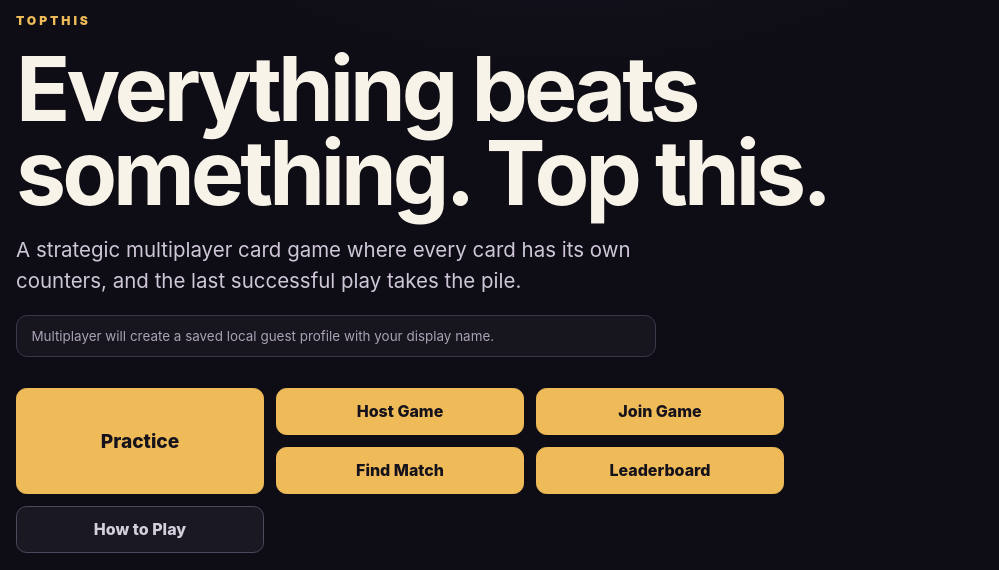
TopThis matchmaking and leaderboard UI › loads leaderboard rows with bounded pagination
(page scrolled)
Step 1. Click the button "Leaderboard" → click(660, 470), box [536,447,784,494]
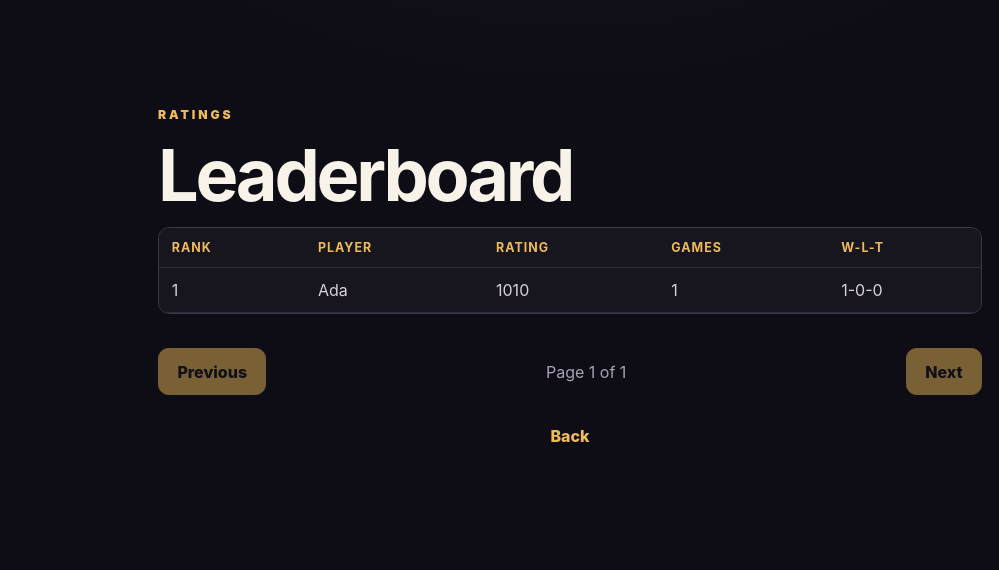
Check: the text "Ada" is shown, box [305,268,483,312]
Check: the button "Previous" is disabled, box [158,348,266,395]
Check: the button "Next" is disabled, box [906,348,982,395]
